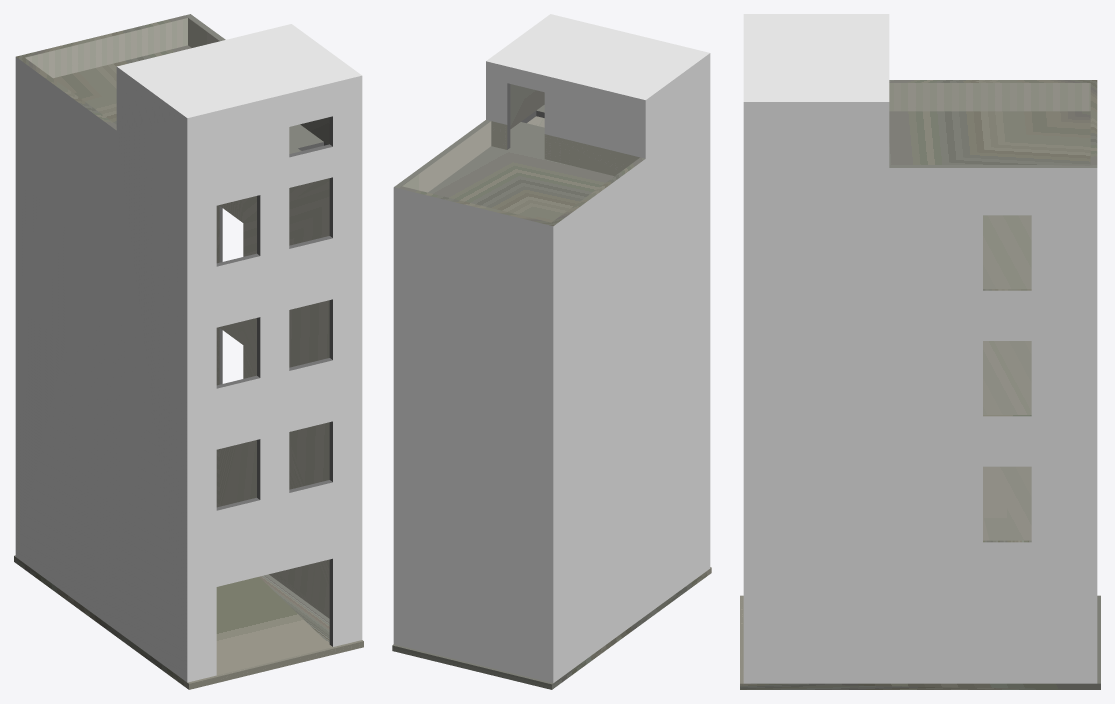
The model's file is TravelAgencySideStair.glb.
3 renders of one model, left to right at view 1: azimuth 30°, elevation 25°; view 2: azimuth 150°, elevation 25°; view 3: azimuth 270°, elevation 25°, orthographic. The views are drawn at different scales.
Parts seen in each view (by area): view 1: SideStairs; view 2: SideStairs; view 3: SideStairs.
Boxes of the visible parts, x1=… form: SideStairs: x1=14, y1=14, x2=363, y2=689; SideStairs: x1=392, y1=14, x2=711, y2=689; SideStairs: x1=740, y1=14, x2=1100, y2=689.
Size of the model in its own units: 6 by 18.7 by 10.4.
Materials: 4 (2 with a texture image).
